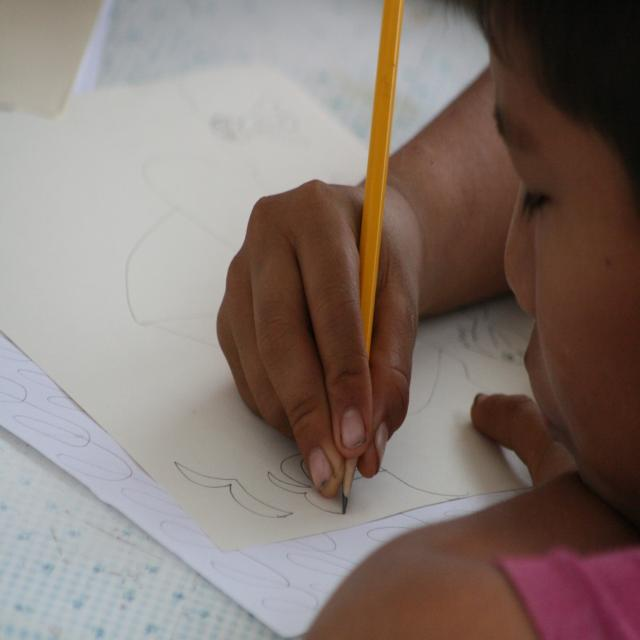pencil: (361, 1, 405, 367), (341, 459, 358, 526)
